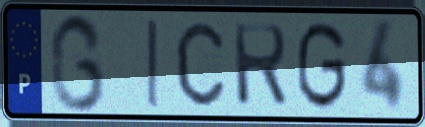4: (357, 15, 409, 118)
C: (173, 19, 228, 110)
G: (48, 10, 107, 115), (294, 19, 349, 113)
I: (144, 16, 163, 110)
R: (230, 21, 290, 110)
